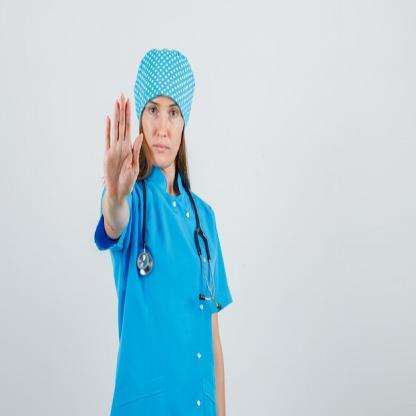stop: (101, 90, 145, 206)
